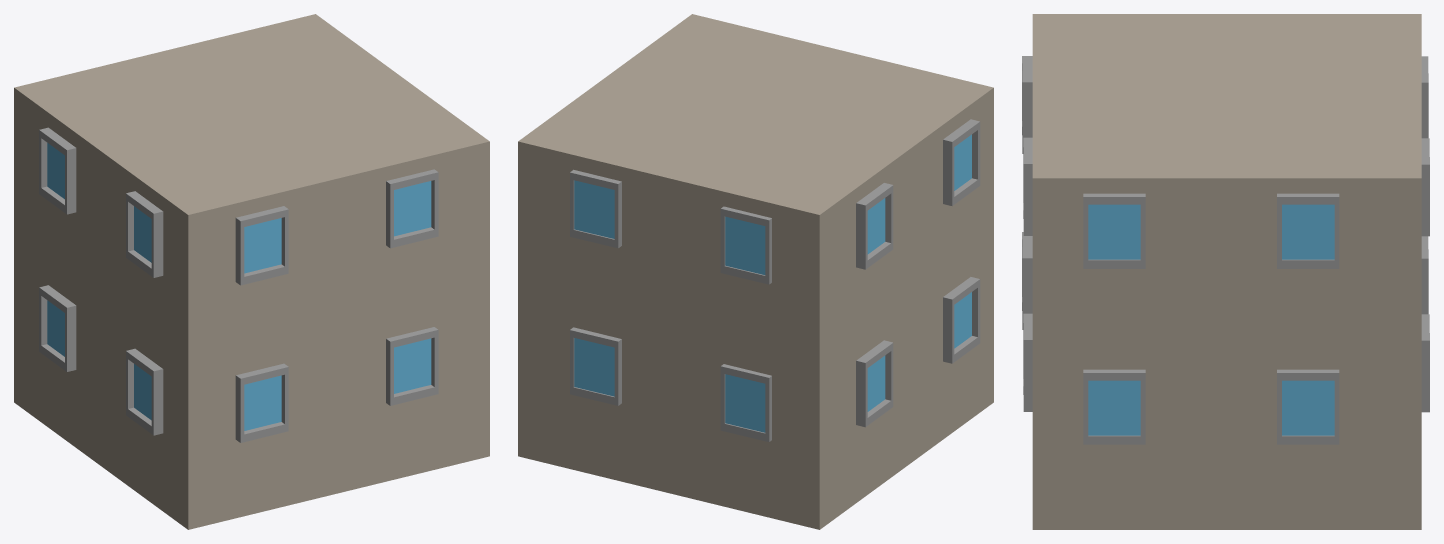
Rendered from House2.fbx.
3 views of the same model, side by side, from view 1: azimuth 30°, elevation 25°; view 2: azimuth 150°, elevation 25°; view 3: azimuth 270°, elevation 25° (orthographic). The views are drawn at different scales.
Parts seen in each view (by area): view 1: Cube.017, Cube, Cube.005, Cube.024, Cube.015, Cube.020, Cube.018, Cube.001, Cube.022, Cube.003, Cube.004, Cube.006 (+6 smaller); view 2: Cube.017, Cube, Cube.008, Cube.027, Cube.010, Cube.029, Cube.015, Cube.020, Cube.001, Cube.018, Cube.007, Cube.026 (+6 smaller); view 3: Cube.017, Cube, Cube.012, Cube.014, Cube.031, Cube.033, Cube.011, Cube.030, Cube.013, Cube.032, Cube.003, Cube.022 (+6 smaller).
Part boxes in pixels (<box>): Cube.017: <box>14,14,489,372</box>; Cube: <box>14,245,489,529</box>; Cube.005: <box>235,363,288,442</box>; Cube.024: <box>235,206,288,285</box>; Cube.015: <box>126,348,163,435</box>; Cube.020: <box>39,127,76,214</box>; Cube.018: <box>126,191,163,277</box>; Cube.001: <box>39,285,76,371</box>; Cube.022: <box>386,169,438,248</box>; Cube.003: <box>386,327,438,405</box>; Cube.004: <box>394,338,431,393</box>; Cube.006: <box>244,375,281,430</box>; Cube.017: <box>518,14,993,371</box>; Cube: <box>518,245,993,529</box>; Cube.008: <box>574,338,614,396</box>; Cube.027: <box>574,180,614,238</box>; Cube.010: <box>725,374,765,432</box>; Cube.029: <box>725,216,765,274</box>; Cube.015: <box>943,277,980,363</box>; Cube.020: <box>856,183,893,269</box>; Cube.001: <box>856,340,893,427</box>; Cube.018: <box>943,119,980,205</box>; Cube.007: <box>570,327,621,405</box>; Cube.026: <box>570,169,621,248</box>; Cube.017: <box>1032,14,1421,354</box>; Cube: <box>1032,353,1421,529</box>; Cube.012: <box>1088,380,1140,435</box>; Cube.014: <box>1282,380,1334,435</box>; Cube.031: <box>1088,204,1140,259</box>; Cube.033: <box>1282,204,1334,259</box>; Cube.011: <box>1083,369,1145,444</box>; Cube.030: <box>1083,193,1145,268</box>; Cube.013: <box>1277,369,1339,444</box>; Cube.032: <box>1277,193,1339,268</box>; Cube.003: <box>1023,313,1032,411</box>; Cube.022: <box>1023,137,1032,235</box>.
Size of the model in its own units: 211 by 200 by 210.
